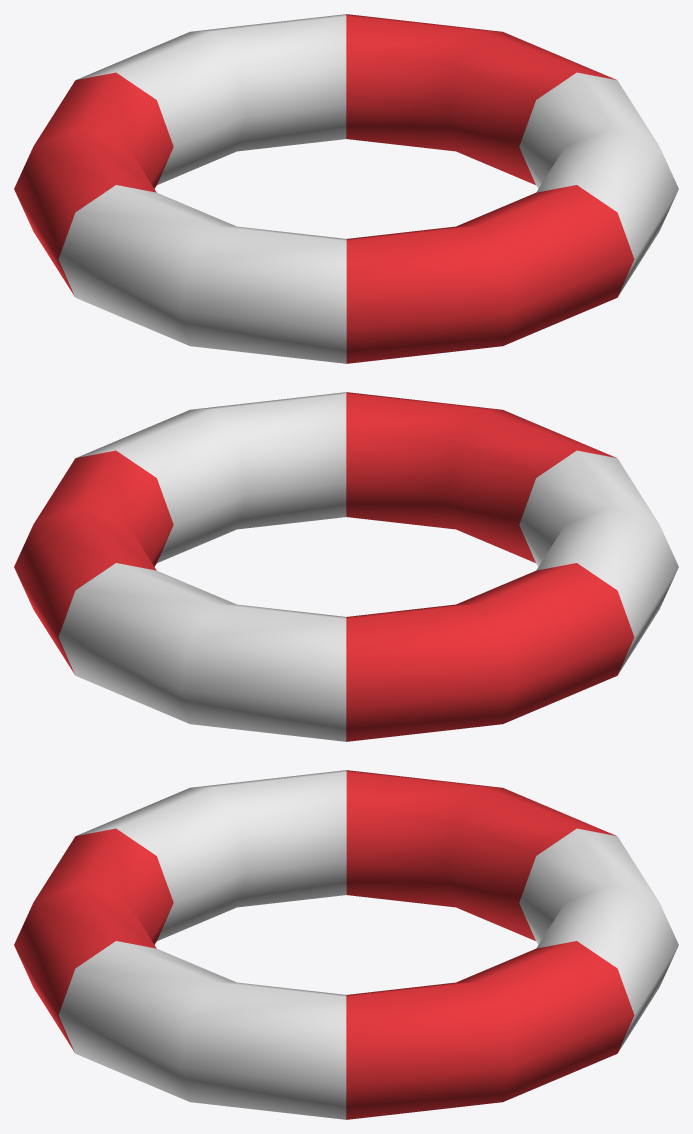
File: floater.gltf
3 renders of one model, top to bottom at view 1: azimuth 30°, elevation 25°; view 2: azimuth 150°, elevation 25°; view 3: azimuth 270°, elevation 25°, orthographic.
Parts seen in each view (by area): view 1: Torus; view 2: Torus; view 3: Torus.
Part boxes in pixels (x1,y1,x2,y2): Torus: (14,14,678,363); Torus: (14,392,678,741); Torus: (14,770,678,1119).
Size of the model in its own units: 2.5 by 0.5 by 2.5.
